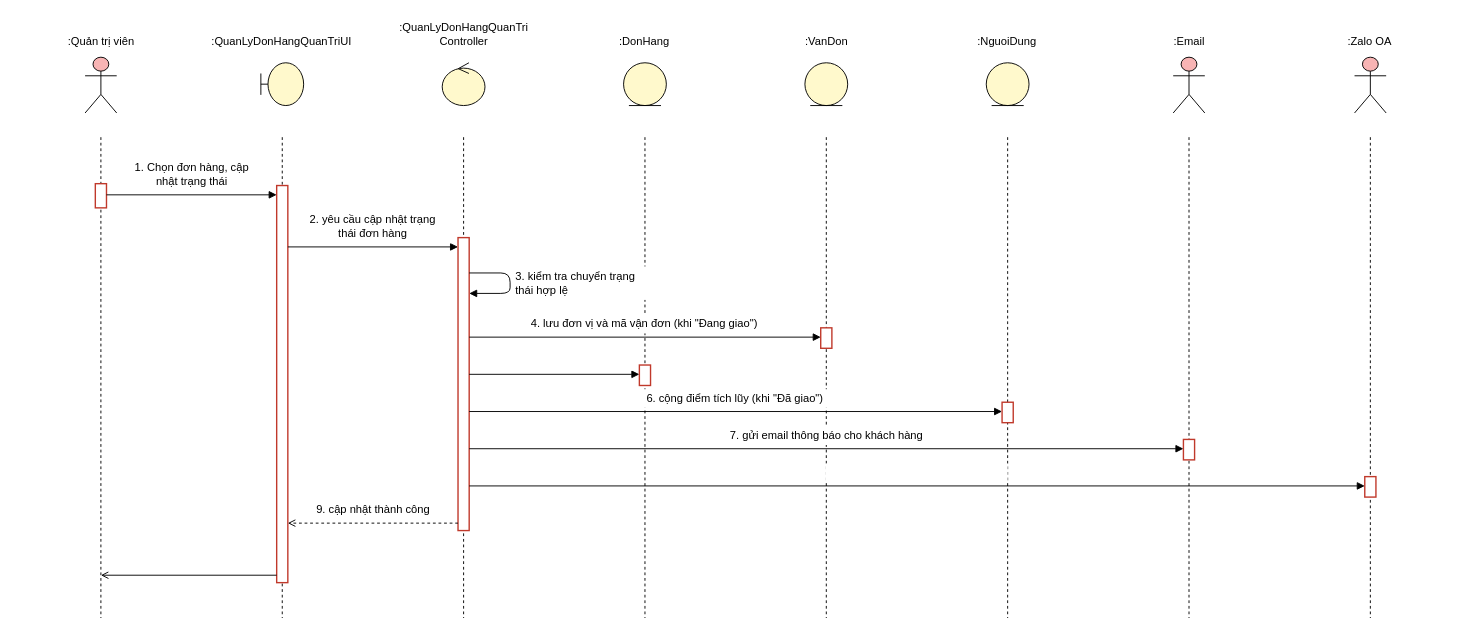
Some shapes in this 1470 by 635 pixel diagram are drawn without their labels. The shapes that lost their labels are listed below. From the top down, each one's centre as x and y in pixels, then its label:
At point 553,361: "5. lưu trạng thái đơn hàng".
At point 916,472: "8. gửi tin nhắn Zalo thông báo".
At point 189,554: "10. Hiển thị thông báo cập nhật thành công".
